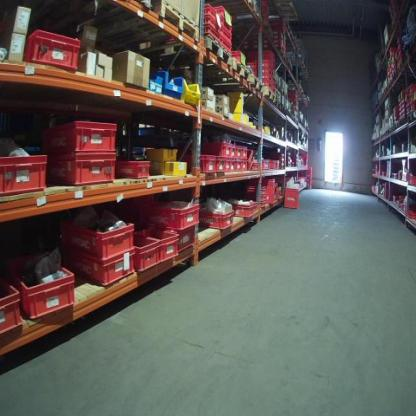pallet: (83, 1, 201, 56), (151, 33, 234, 73), (83, 1, 153, 17), (225, 56, 254, 87), (247, 73, 266, 97), (260, 85, 278, 108), (408, 111, 416, 124), (402, 114, 410, 127), (393, 119, 401, 132)
small_load_carrier: (18, 257, 75, 323), (58, 217, 139, 257), (59, 248, 136, 288), (51, 152, 120, 196), (22, 32, 83, 74), (50, 118, 120, 152), (1, 150, 49, 199), (135, 200, 201, 225), (137, 227, 178, 263), (1, 276, 24, 335), (135, 232, 162, 274), (120, 153, 151, 180), (177, 224, 202, 254), (181, 154, 215, 174), (200, 212, 230, 232), (197, 143, 230, 158), (261, 177, 278, 205), (282, 186, 300, 211), (214, 6, 236, 26), (200, 5, 224, 21), (233, 201, 255, 217), (202, 27, 221, 45), (203, 17, 221, 31), (220, 19, 234, 36), (235, 49, 247, 67), (247, 148, 256, 170), (242, 186, 266, 194), (214, 159, 226, 173), (216, 43, 232, 53), (260, 159, 271, 171), (220, 31, 231, 43), (270, 160, 281, 170), (256, 194, 267, 204), (257, 202, 268, 212), (230, 158, 237, 172), (242, 145, 248, 160), (230, 146, 237, 158), (236, 147, 243, 158), (406, 85, 414, 92), (225, 160, 230, 171), (243, 160, 248, 170), (237, 162, 242, 172)
